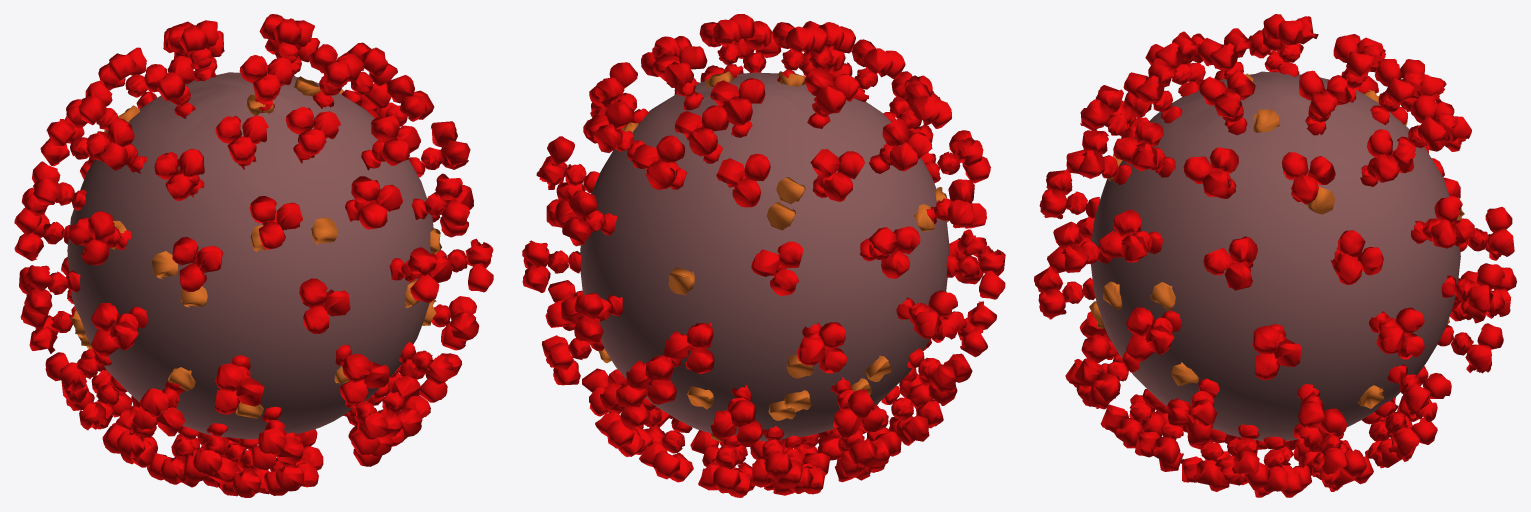
File: CoronaVirus.fbx
3 views of the same model, side by side, from view 1: azimuth 30°, elevation 25°; view 2: azimuth 150°, elevation 25°; view 3: azimuth 270°, elevation 25° (orthographic).
Parts seen in each view (by area): view 1: Body, Body|Spike|Dupli|52.1, Body|Spike|Dupli|33.1, Body|Spike|Dupli|35.1, Body|Spike|Dupli|54.1, Body|Spike|Dupli|30.1, Body|Spike|Dupli|28.1, Body|Spike|Dupli|45.1, Body|Spike|Dupli|56.1, Body|Spike|Dupli|25.1, Body|Spike|Dupli|43.1, Body|Spike|Dupli|58.1 (+42 smaller); view 2: Body, Body|Spike|Dupli|7.1, Body|Spike|Dupli|59.1, Body|Spike|Dupli|61.1, Body|Spike|Dupli|2.1, Body|Spike|Dupli|56.1, Body|Spike|Dupli|5.1, Body|Spike|Dupli|64.1, Body|Spike|Dupli|63.1, Body|Spike|Dupli|58.1, Body|Spike|Dupli|66.1, Body|Spike|Dupli|11.1 (+46 smaller); view 3: Body, Body|Spike|Dupli|26.1, Body|Spike|Dupli|28.1, Body|Spike|Dupli|12.1, Body|Spike|Dupli|30.1, Body|Spike|Dupli|24.1, Body|Spike|Dupli|7.1, Body|Spike|Dupli|25.1, Body|Spike|Dupli|9.1, Body|Spike|Dupli|11.1, Body|Spike|Dupli|10.1, Body|Spike|Dupli|35.1 (+40 smaller).
Boxes of the visible parts, x1,y1,x2,y2 form: Body: (67, 72, 433, 439); Body|Spike|Dupli|52.1: (91, 303, 148, 356); Body|Spike|Dupli|33.1: (389, 247, 451, 302); Body|Spike|Dupli|35.1: (345, 176, 402, 229); Body|Spike|Dupli|54.1: (68, 211, 131, 265); Body|Spike|Dupli|30.1: (361, 116, 420, 170); Body|Spike|Dupli|28.1: (411, 173, 473, 226); Body|Spike|Dupli|45.1: (214, 355, 264, 414); Body|Spike|Dupli|56.1: (86, 118, 146, 173); Body|Spike|Dupli|25.1: (309, 44, 363, 108); Body|Spike|Dupli|43.1: (251, 406, 303, 470); Body|Spike|Dupli|58.1: (144, 56, 195, 118); Body: (580, 72, 949, 441); Body|Spike|Dupli|7.1: (554, 190, 617, 246); Body|Spike|Dupli|59.1: (896, 290, 957, 342); Body|Spike|Dupli|61.1: (860, 226, 920, 278); Body|Spike|Dupli|2.1: (632, 135, 687, 189); Body|Spike|Dupli|56.1: (868, 118, 932, 173); Body|Spike|Dupli|5.1: (561, 292, 623, 343); Body|Spike|Dupli|64.1: (830, 377, 883, 437); Body|Spike|Dupli|63.1: (810, 149, 864, 201); Body|Spike|Dupli|58.1: (804, 67, 859, 128); Body|Spike|Dupli|66.1: (796, 322, 847, 373); Body|Spike|Dupli|11.1: (653, 46, 707, 110); Body: (1091, 71, 1460, 440); Body|Spike|Dupli|26.1: (1126, 307, 1181, 361); Body|Spike|Dupli|28.1: (1099, 209, 1163, 262); Body|Spike|Dupli|12.1: (1369, 307, 1424, 359); Body|Spike|Dupli|30.1: (1113, 121, 1175, 177); Body|Spike|Dupli|24.1: (1167, 378, 1219, 444); Body|Spike|Dupli|7.1: (1411, 196, 1475, 248); Body|Spike|Dupli|25.1: (1199, 71, 1255, 135); Body|Spike|Dupli|9.1: (1360, 129, 1415, 186); Body|Spike|Dupli|11.1: (1299, 70, 1351, 135); Body|Spike|Dupli|10.1: (1387, 363, 1451, 421); Body|Spike|Dupli|35.1: (1066, 130, 1131, 184).
Bounding box in the file's own units: 261 × 261 × 260.
